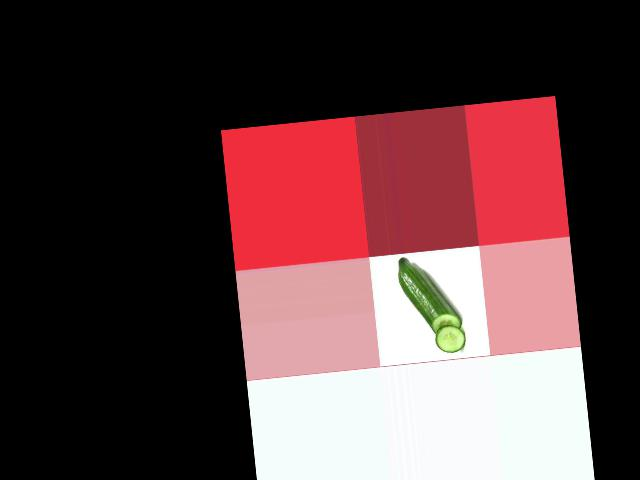cucumber: (397, 252, 462, 338)
